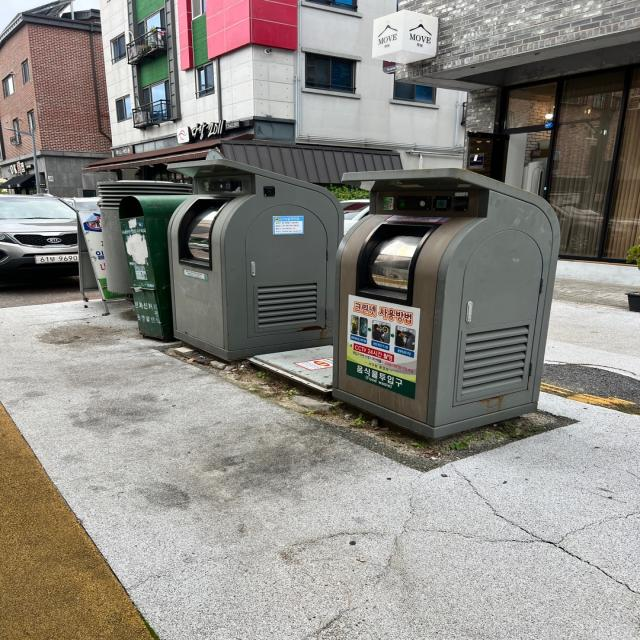CleanNet: (323, 162, 565, 451), (148, 155, 364, 368)
